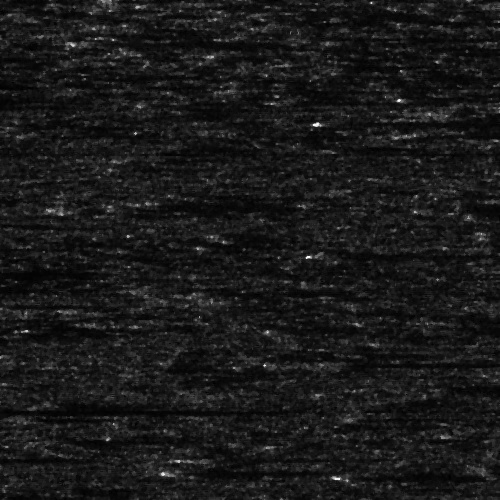object: (469, 94, 500, 115), (61, 38, 124, 45), (381, 130, 444, 135), (283, 118, 336, 123), (272, 99, 313, 102)
shadow: (92, 38, 288, 45), (310, 118, 500, 123), (261, 87, 461, 90), (413, 130, 500, 135), (293, 99, 427, 102), (0, 102, 46, 107)
